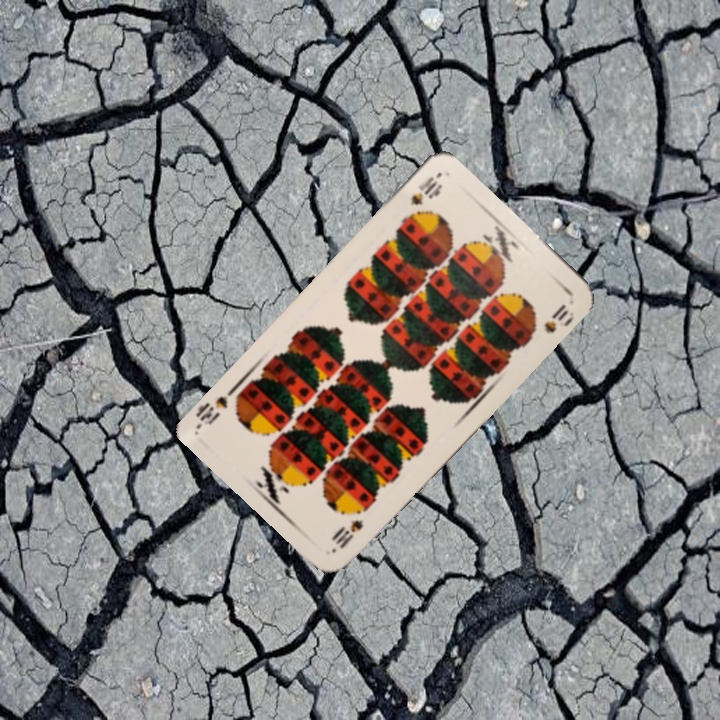S10: (406, 171, 444, 208), (329, 515, 366, 552)
